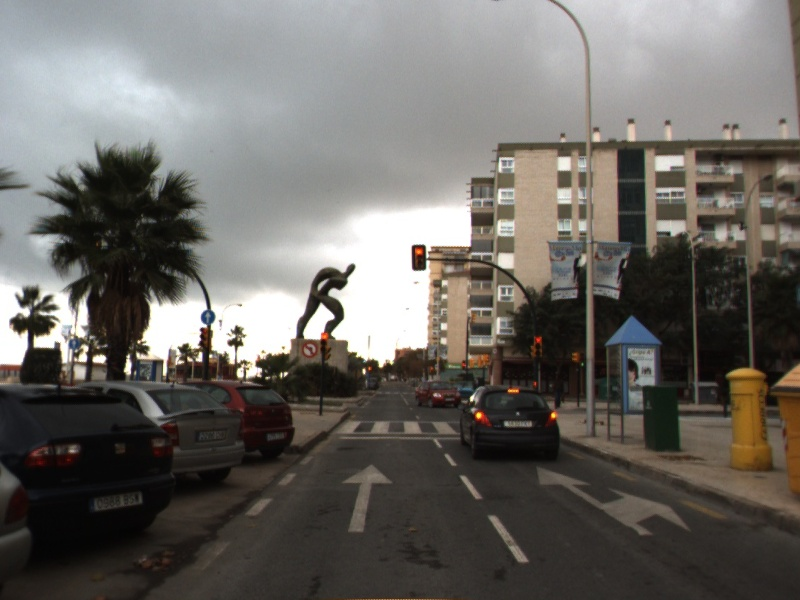STRAIGHT: (339, 462, 395, 534)
STRAIGHT_RIGHT: (534, 464, 694, 537)
